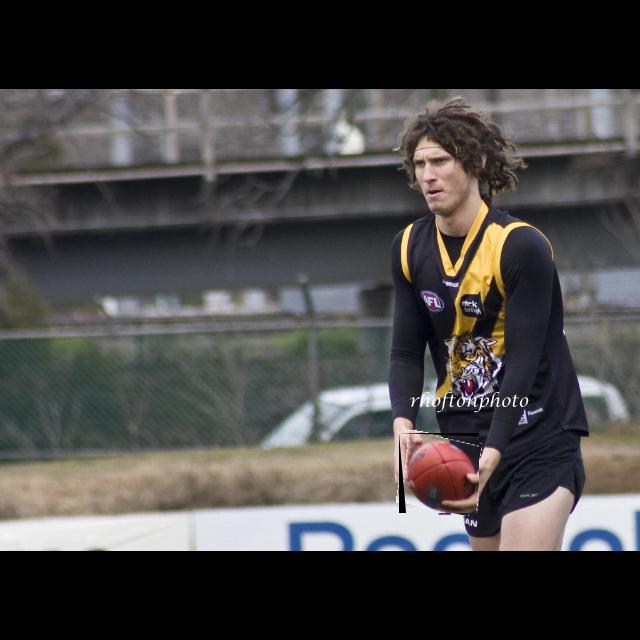Football: (399, 433, 479, 513)
